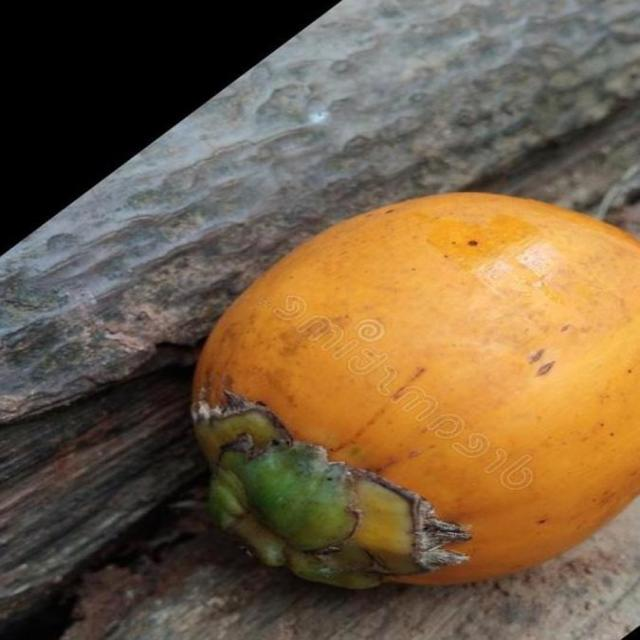good: (191, 193, 639, 594)
